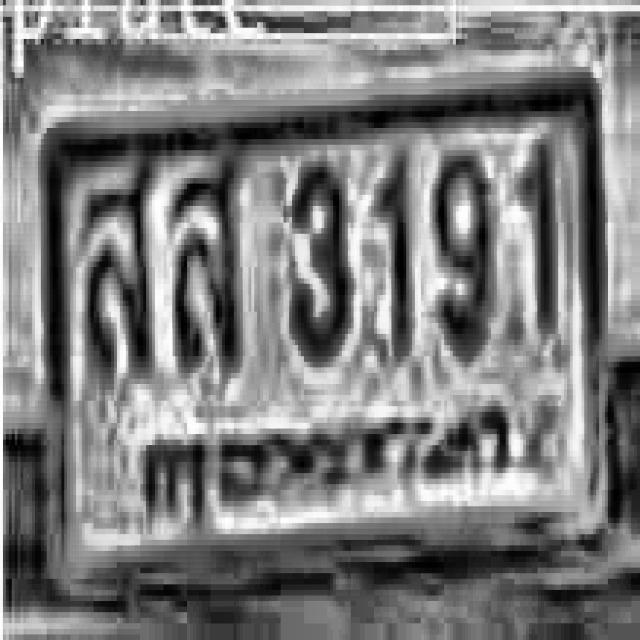license-plate: (35, 71, 616, 586)
